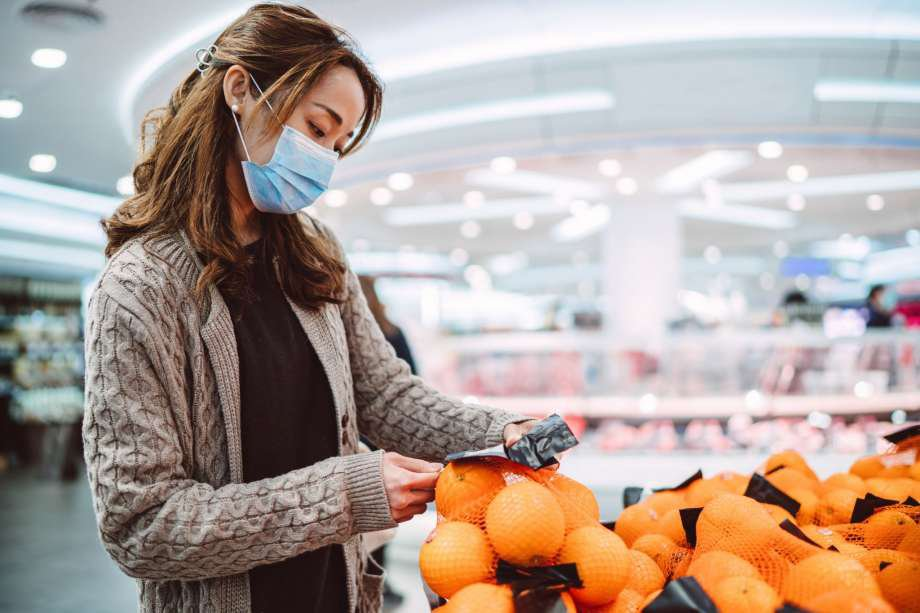mask: (182, 1, 393, 230)
